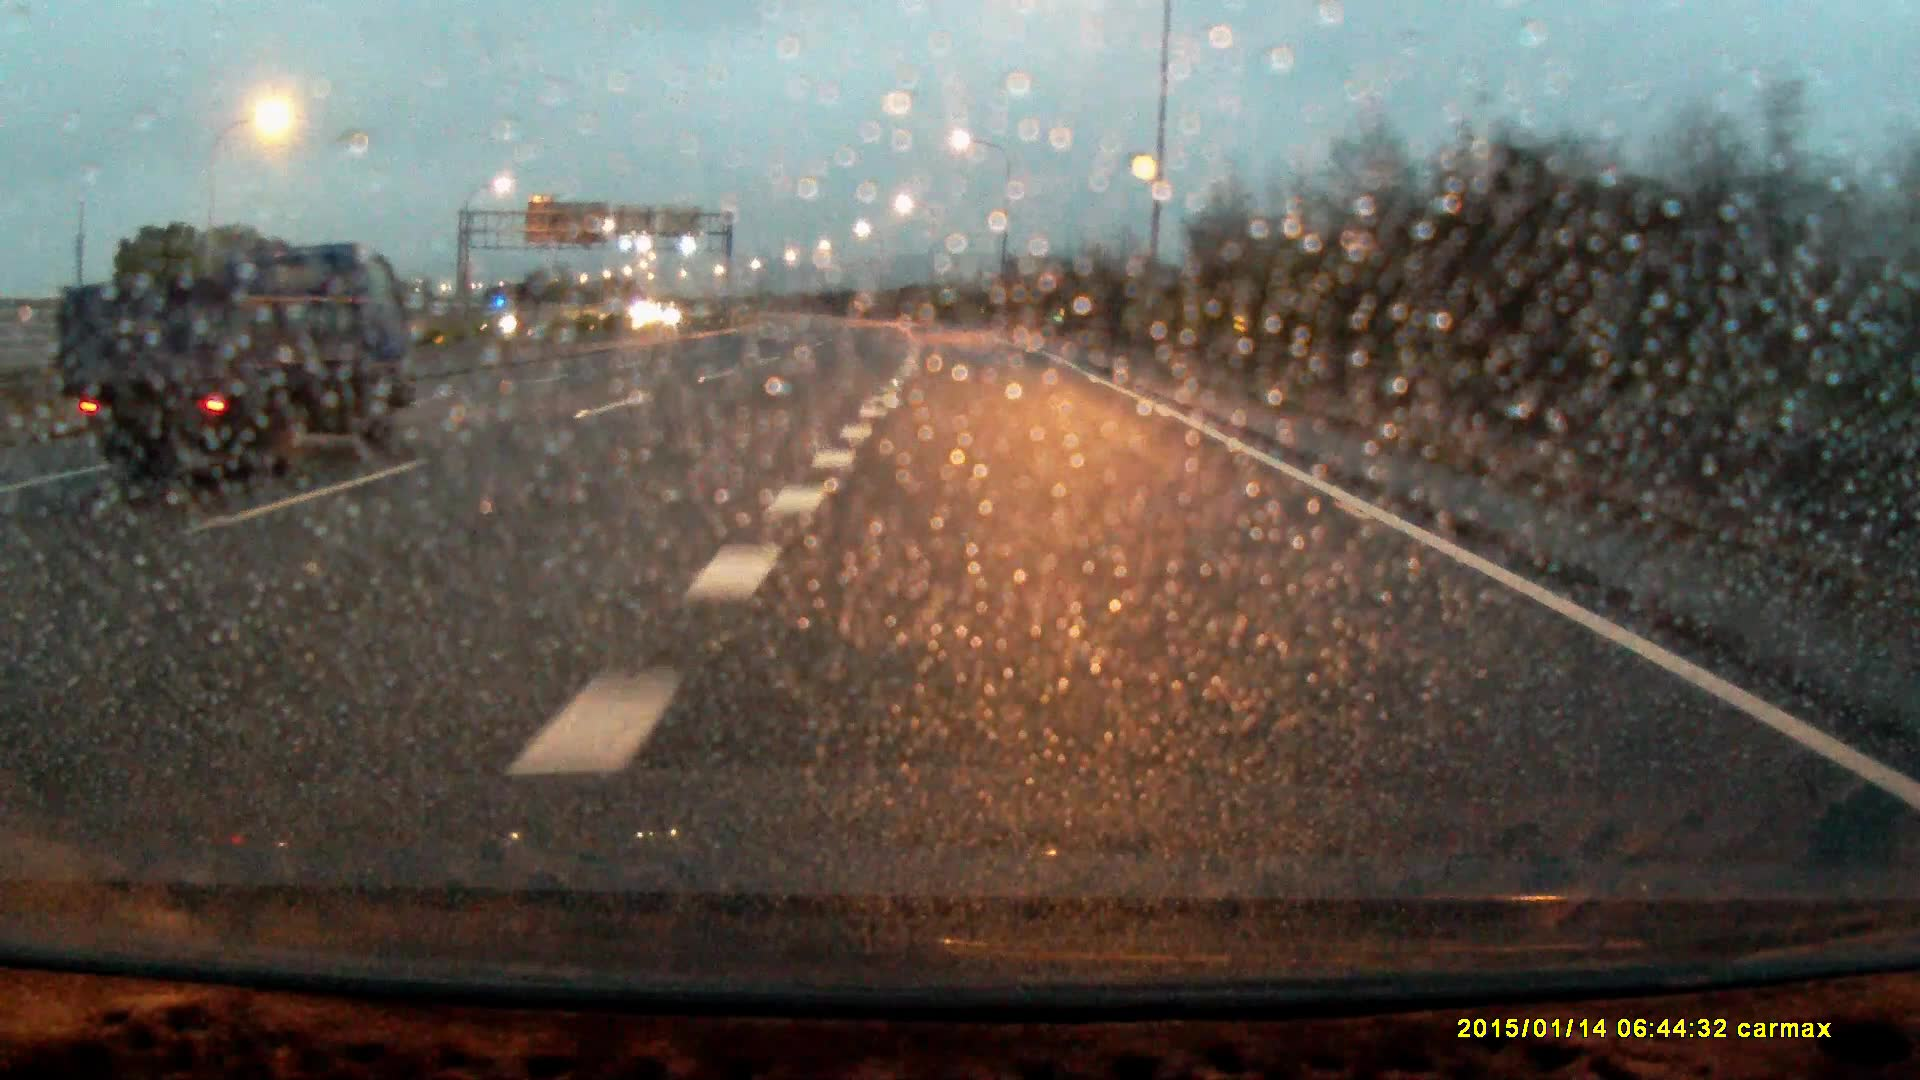vehicle: (65, 228, 401, 493)
